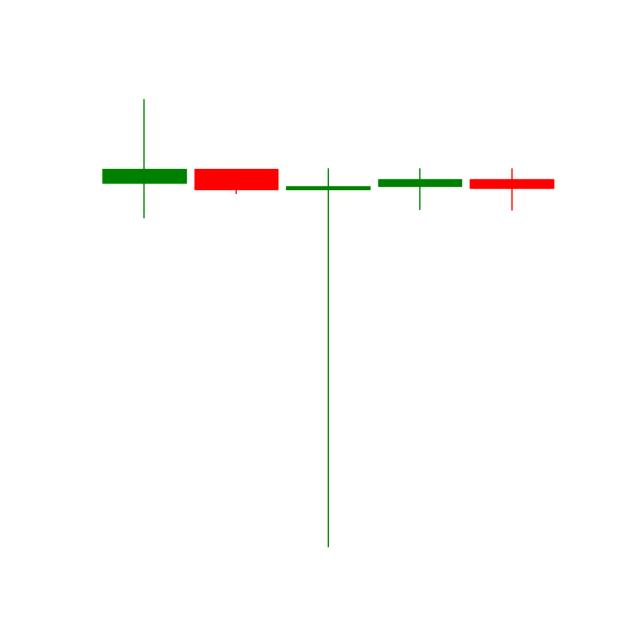Dragonfly Doji: (284, 161, 374, 552)
Gravenstone Doji: (102, 98, 188, 220)
